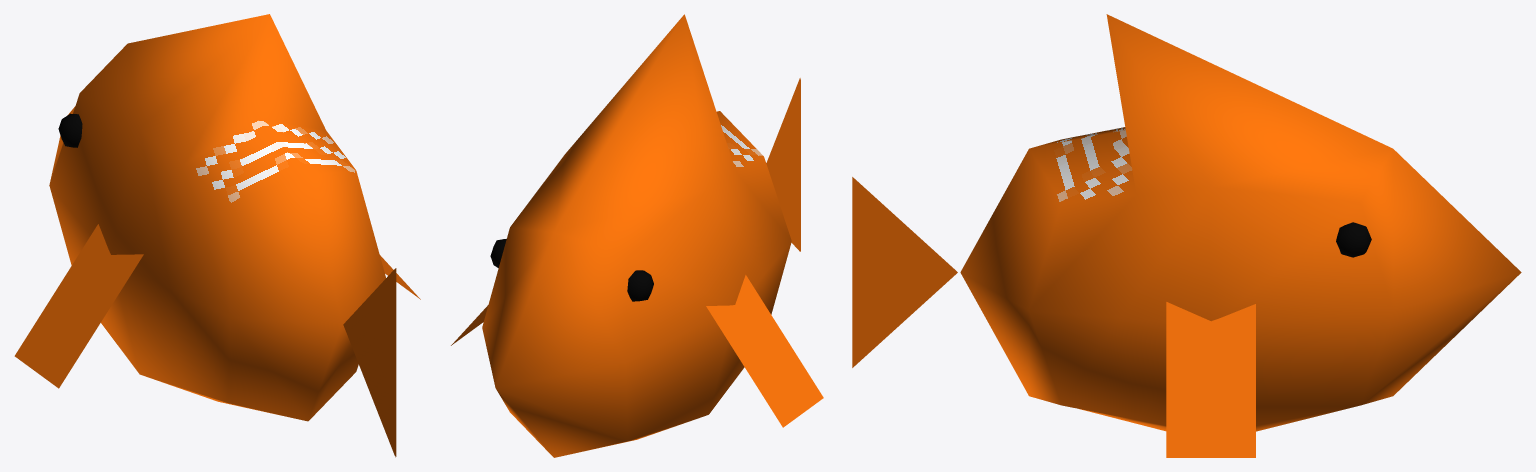
Rendered from Fish.fbx.
3 views of the same model, side by side, from view 1: azimuth 30°, elevation 25°; view 2: azimuth 150°, elevation 25°; view 3: azimuth 270°, elevation 25° (orthographic). The views are drawn at different scales.
Parts seen in each view (by area): view 1: Cube; view 2: Cube; view 3: Cube.
Boxes of the visible parts, x1,y1,x2,y2 form: Cube: (14, 14, 420, 457); Cube: (451, 14, 823, 457); Cube: (852, 14, 1521, 457).
Bounding box in the file's own units: 141 × 158 × 224.
Materials: 2 (1 with a texture image).
